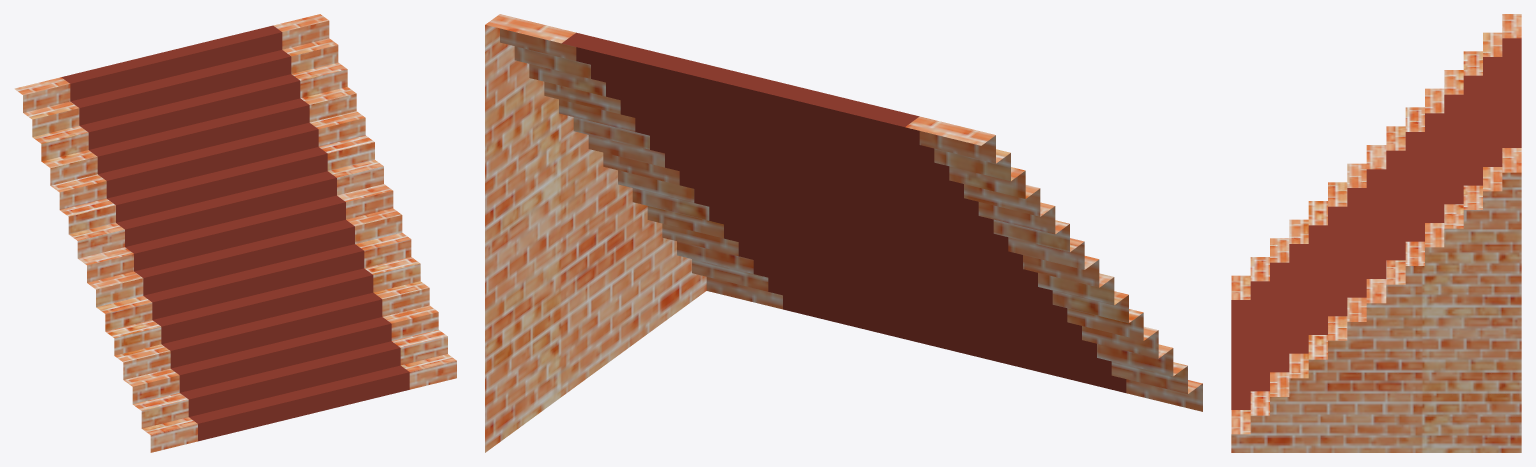
File: ENV_Bar_Stairs.fbx
The picture shows the model from 3 angles, left to right: view 1: azimuth 30°, elevation 25°; view 2: azimuth 150°, elevation 25°; view 3: azimuth 270°, elevation 25°; orthographic projection. The views are drawn at different scales.
Parts seen in each view (by area): view 1: Stairs; view 2: Stairs; view 3: Stairs.
Part boxes in pixels (x1,y1,x2,y2): Stairs: [14, 14, 456, 452]; Stairs: [485, 14, 1202, 452]; Stairs: [1231, 14, 1521, 452].
Size of the model in its own units: 424 by 350 by 328.
